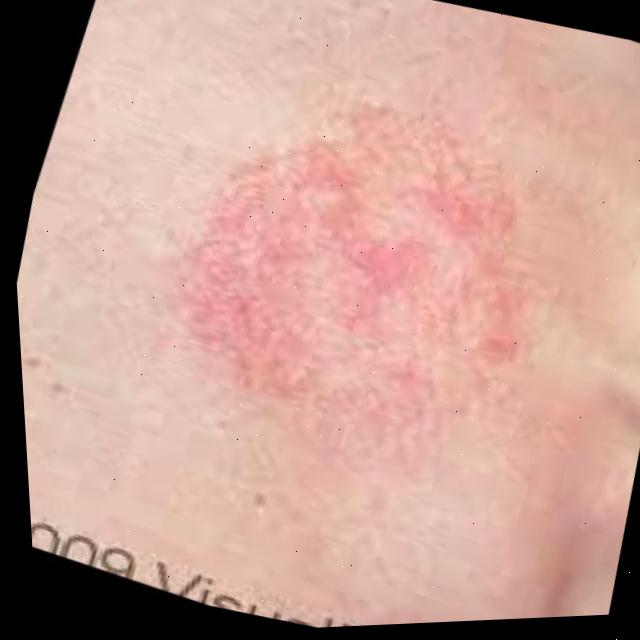Eczema: (177, 106, 538, 407)
